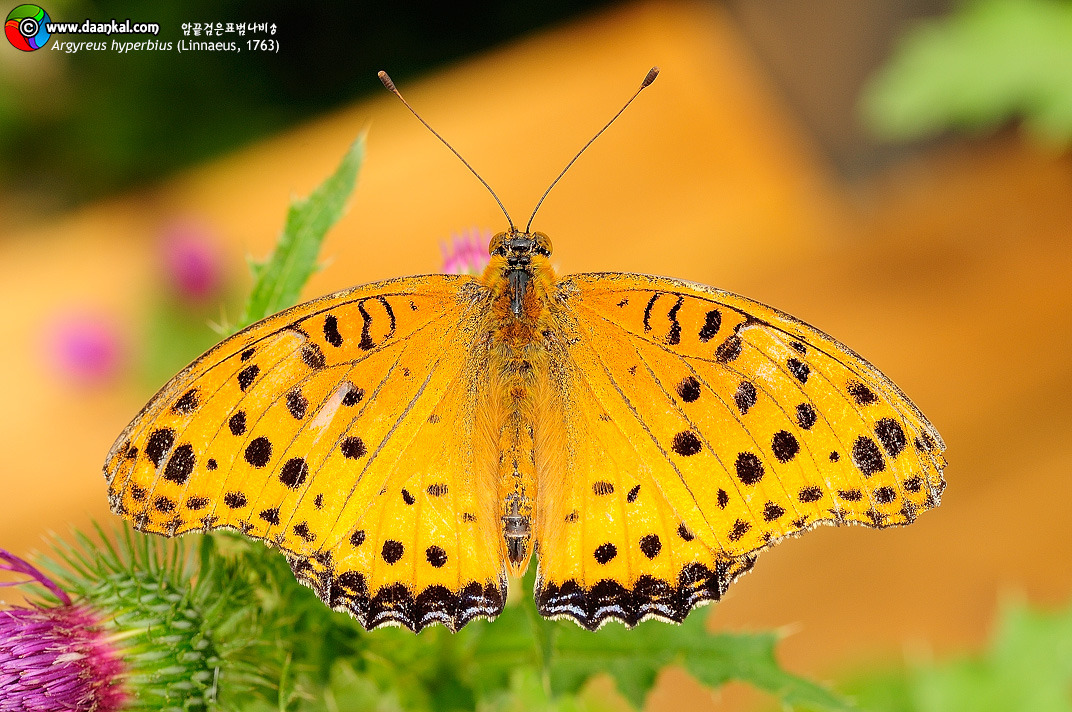Argyreus hyperbius: (96, 48, 954, 637)
butterfly: (98, 50, 956, 639)
